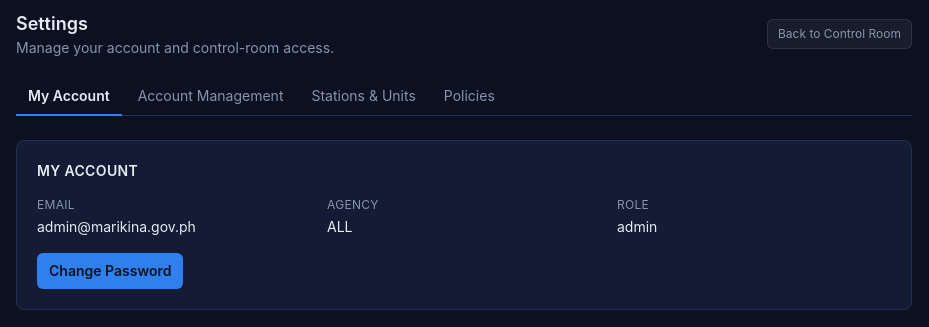
Settings view › admin gets an Account Management tab inside Settings that opens the existing component inline
Check: the tab "My Account" is shown, box [16,78,122,116]
Check: the heading "My Account" is shown, box [37,162,138,179]
Step 1. Click the tab "Account Management" → [211, 97], box [126,78,296,116]
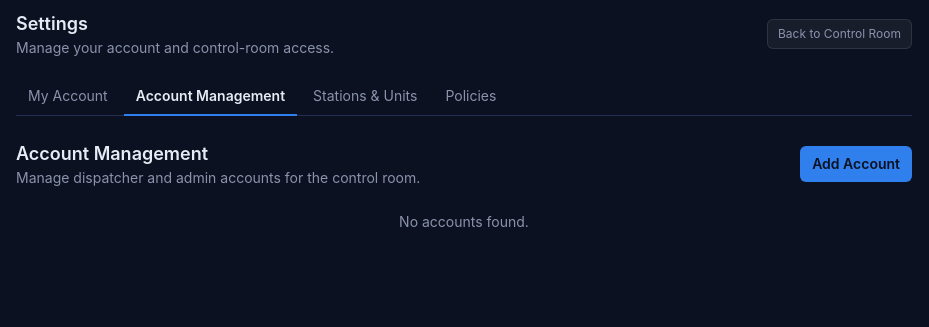
Check: the button "Back to Control Room" is shown, box [767,19,912,49]
Check: the button "Add Account" is shown, box [800,146,912,182]
Check: the heading "Account Management" is shown, box [16,143,208,164]
